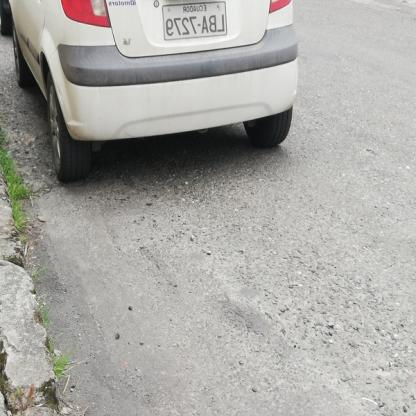Placa: (162, 0, 227, 42)
